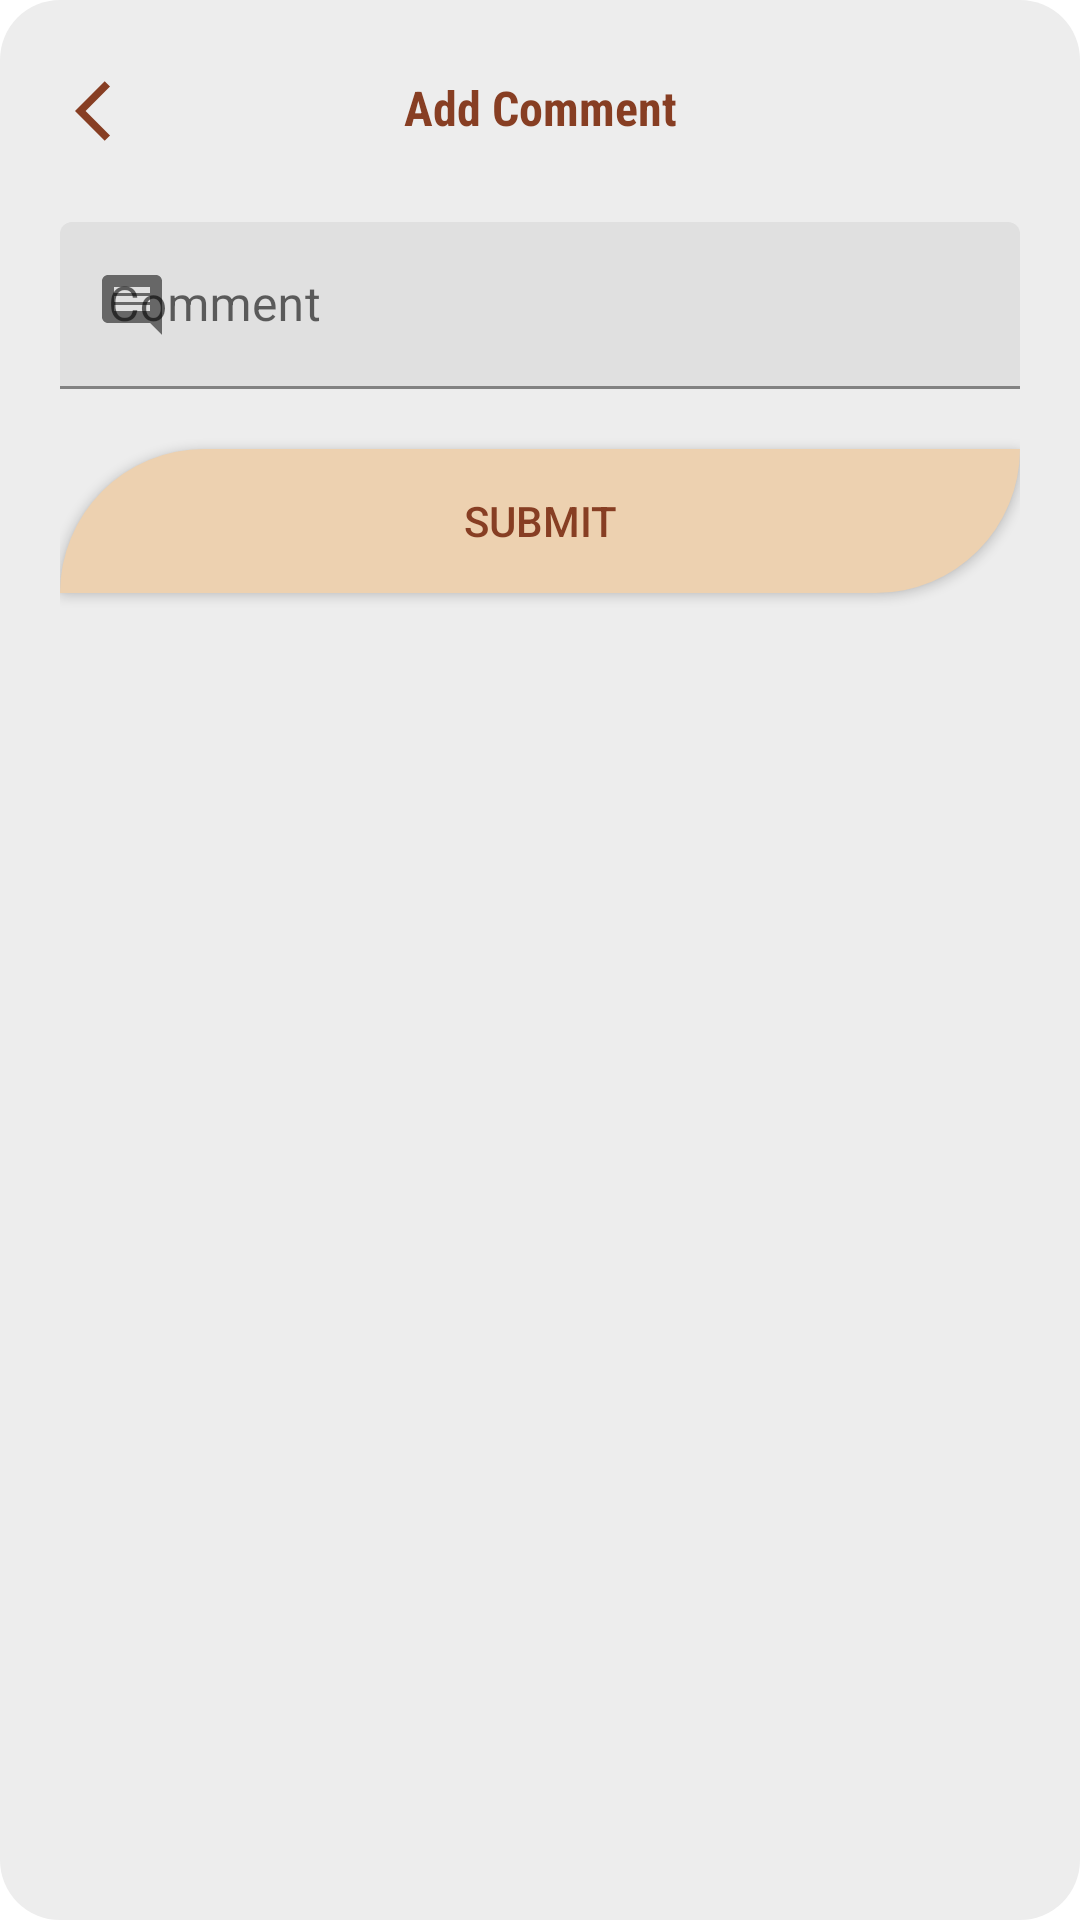

Icon click points for this 1080px×1920px phone screenshot, format (x=x, y=y):
arrow back: (x=92, y=111)
